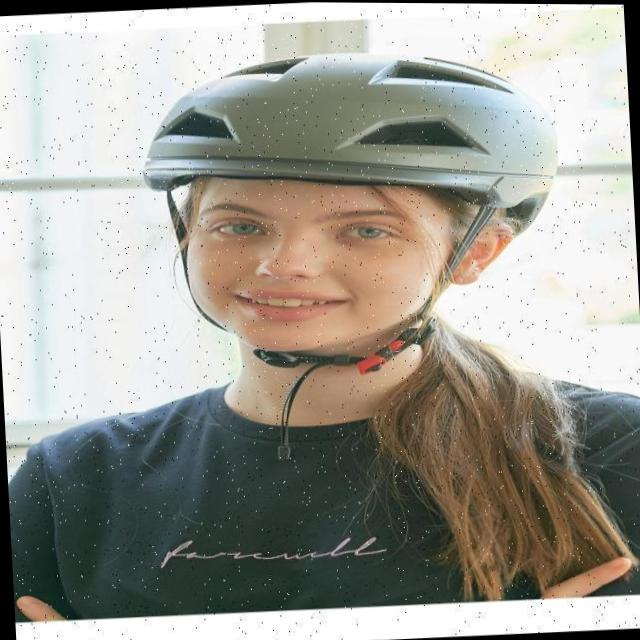helmet: (133, 41, 565, 470)
